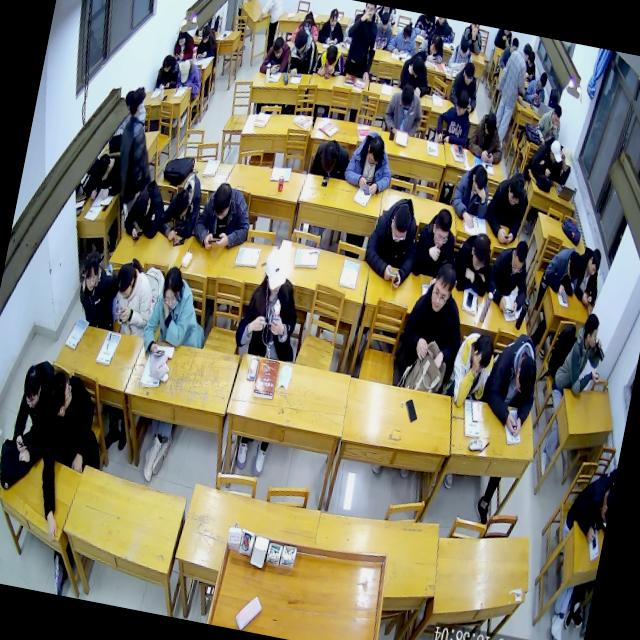bow: (155, 167, 208, 248), (120, 173, 171, 247), (448, 227, 498, 299), (538, 242, 584, 300), (89, 148, 127, 206), (309, 132, 353, 182), (523, 131, 565, 180), (396, 48, 435, 100), (258, 32, 294, 78), (312, 39, 349, 80), (290, 8, 323, 48), (416, 27, 449, 64), (373, 8, 397, 54)
down: (260, 246, 293, 300), (158, 263, 188, 312), (510, 352, 540, 400), (18, 364, 46, 414), (469, 330, 497, 378), (210, 179, 237, 225), (428, 205, 454, 252), (387, 203, 414, 247), (363, 131, 388, 170), (112, 261, 137, 300), (508, 237, 530, 278), (318, 138, 341, 176), (505, 172, 528, 210), (170, 186, 193, 223), (131, 188, 154, 223), (469, 165, 490, 199), (564, 249, 584, 283), (94, 152, 114, 184), (586, 247, 604, 280), (482, 110, 501, 140), (547, 137, 566, 167), (292, 28, 310, 56), (410, 52, 427, 80), (323, 44, 340, 71), (459, 61, 476, 88), (560, 146, 576, 174), (272, 34, 288, 60), (178, 56, 193, 82), (428, 32, 443, 57), (458, 37, 472, 61), (550, 105, 564, 128), (400, 22, 414, 44), (200, 22, 213, 44), (536, 70, 548, 93), (328, 6, 341, 27), (160, 54, 173, 74), (508, 34, 521, 54), (380, 10, 392, 31), (302, 12, 314, 32), (176, 28, 188, 46)
lookup: (426, 260, 459, 318)
sit: (20, 366, 117, 548), (389, 256, 476, 400), (230, 242, 314, 367), (106, 83, 168, 217), (476, 328, 548, 442), (140, 261, 210, 363), (359, 190, 427, 292), (549, 307, 612, 406), (8, 355, 62, 468), (190, 175, 258, 257), (486, 38, 537, 146), (105, 253, 163, 343), (444, 326, 501, 413), (481, 235, 538, 320), (72, 246, 128, 332), (408, 202, 462, 284), (481, 165, 534, 248), (342, 127, 400, 199), (562, 468, 616, 544), (339, 1, 385, 83), (446, 158, 496, 232), (380, 80, 428, 142), (433, 86, 478, 152), (464, 106, 512, 167), (569, 244, 607, 312), (446, 58, 484, 115), (285, 26, 322, 82), (532, 100, 566, 148), (173, 56, 206, 100), (385, 18, 421, 58), (316, 4, 349, 47), (154, 50, 183, 96), (446, 34, 476, 73), (522, 68, 551, 108), (194, 22, 222, 62), (171, 26, 198, 63), (554, 146, 576, 189)
